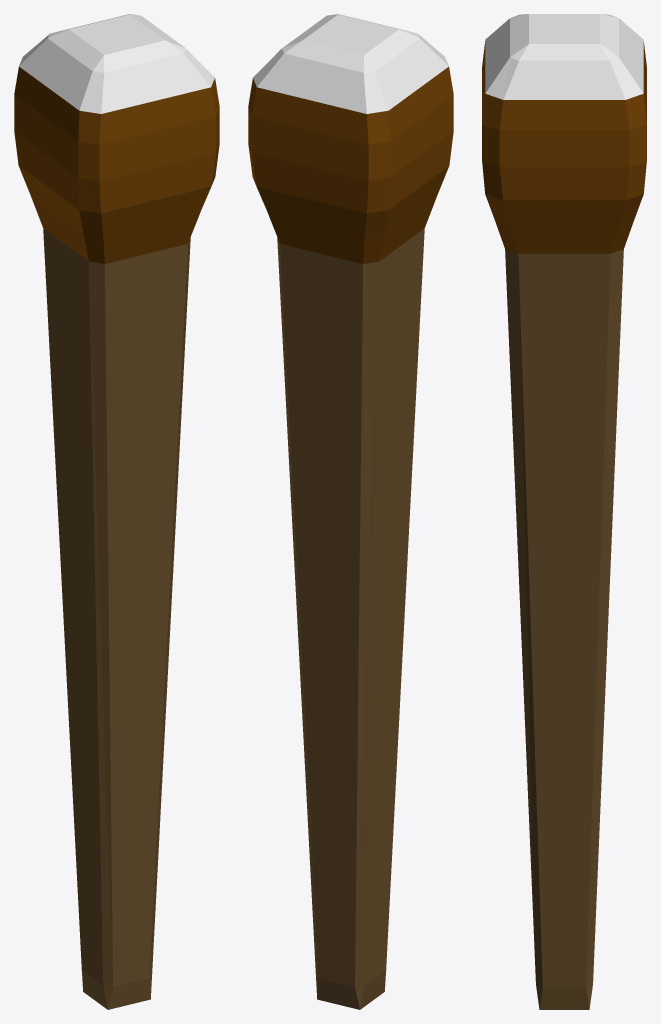
File: hand_torch.dae
The picture shows the model from 3 angles, left to right: view 1: azimuth 30°, elevation 25°; view 2: azimuth 150°, elevation 25°; view 3: azimuth 270°, elevation 25°; orthographic projection.
Parts seen in each view (by area): view 1: Cube; view 2: Cube; view 3: Cube.
Boxes of the visible parts, left/top/right/bottom form: Cube: left=14, top=14, right=219, bottom=1009; Cube: left=248, top=14, right=453, bottom=1009; Cube: left=482, top=14, right=646, bottom=1009.
Bounding box in the file's own units: 0.8872 × 0.8872 × 5.76.
